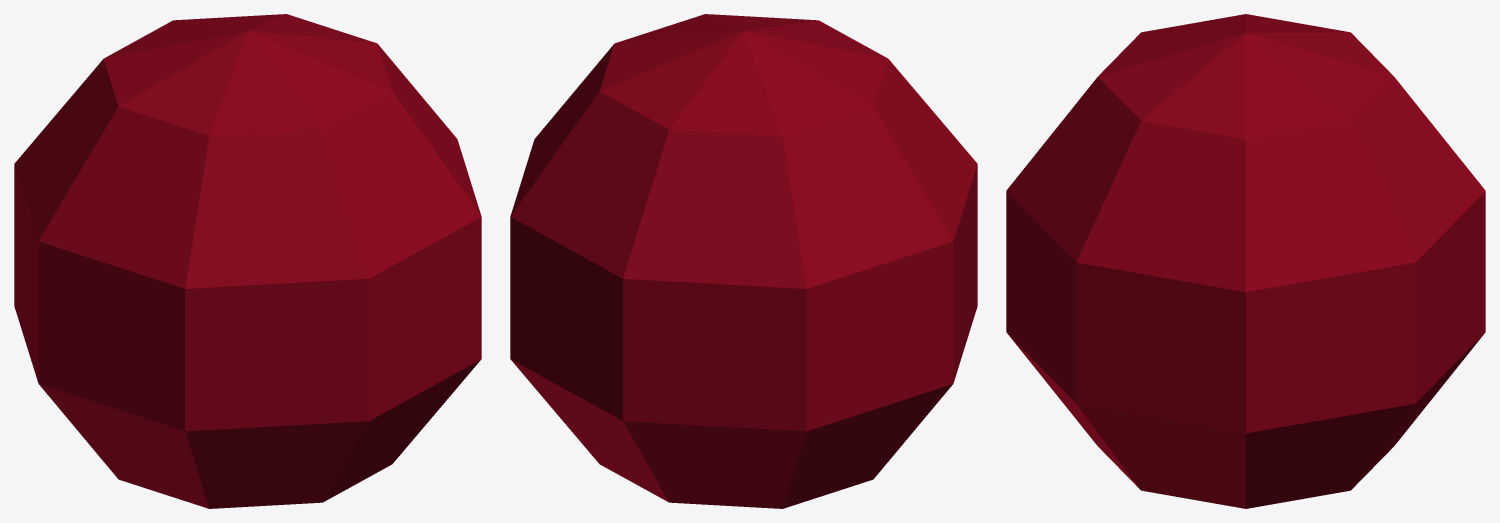
Rendered from _Fire_shell.fbx.
3 views of the same model, side by side, from view 1: azimuth 30°, elevation 25°; view 2: azimuth 150°, elevation 25°; view 3: azimuth 270°, elevation 25° (orthographic).
Visible parts, largest first — view 1: Fire_shell; view 2: Fire_shell; view 3: Fire_shell.
Boxes of the visible parts, left/top/right/bottom form: Fire_shell: left=14, top=14, right=481, bottom=508; Fire_shell: left=510, top=14, right=977, bottom=508; Fire_shell: left=1006, top=14, right=1485, bottom=508.
Size of the model in its own units: 83.31 by 87.59 by 83.31.
